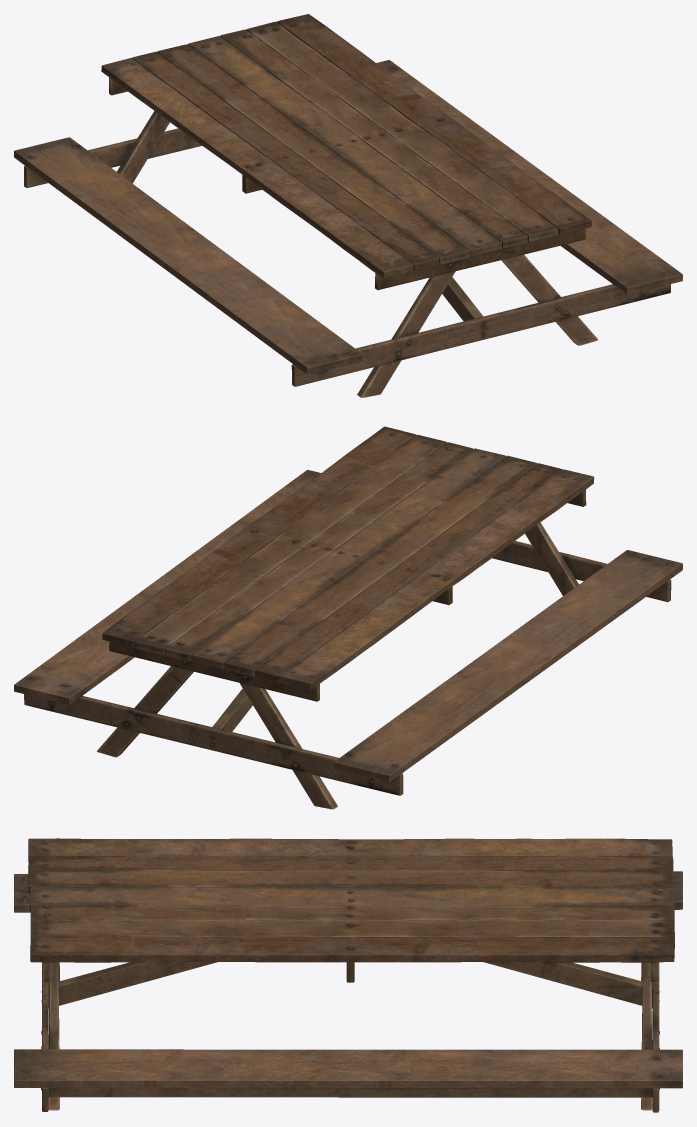
File: wooden_picnic_table.glb
The picture shows the model from 3 angles, top to bottom: view 1: azimuth 30°, elevation 25°; view 2: azimuth 150°, elevation 25°; view 3: azimuth 270°, elevation 25°; orthographic projection. The views are drawn at different scales.
Parts seen in each view (by area): view 1: wooden_picnic_table; view 2: wooden_picnic_table; view 3: wooden_picnic_table.
Boxes of the visible parts, <box> form: wooden_picnic_table: <box>14,14,682,397</box>; wooden_picnic_table: <box>14,426,682,809</box>; wooden_picnic_table: <box>14,838,682,1112</box>.
Size of the model in its own units: 2.24 by 0.746 by 3.02.
2 materials, 2 textured.
